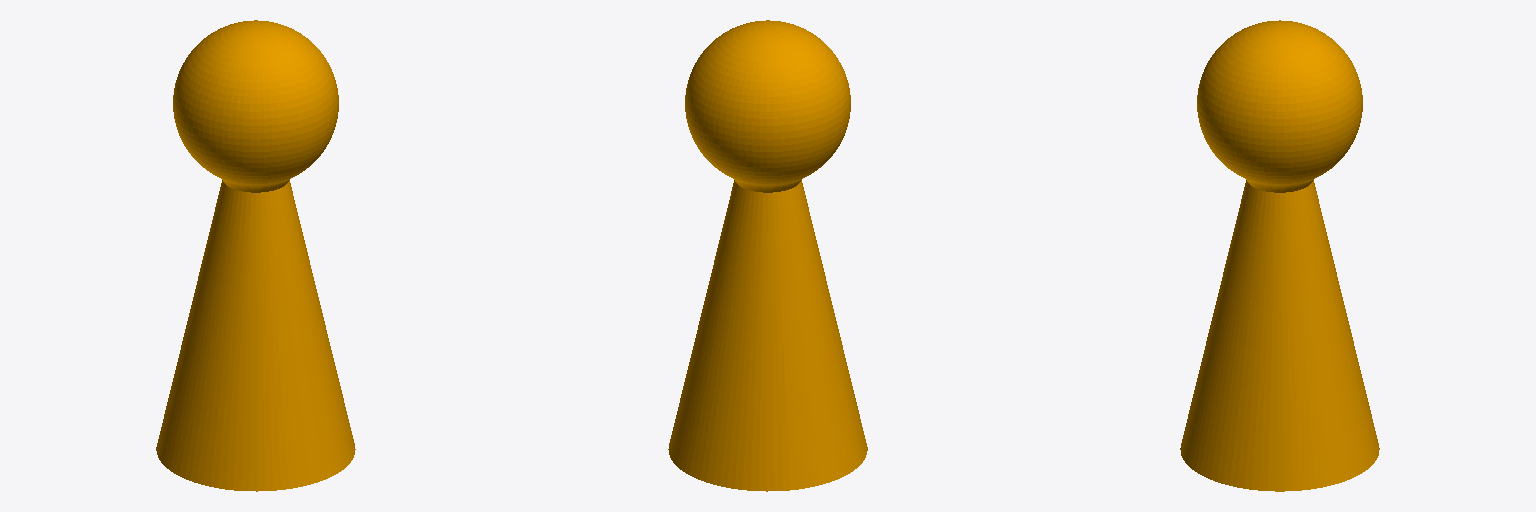
The robot description file, URDF, robot "benchmark_part_3":
<robot name="benchmark_part_3">
  <link name="base_link">
    <visual>
      <geometry>
        <mesh filename="benchmark_parts_stl/benchmark_part_3.stl" scale="0.001 0.001 0.001" />
      </geometry>
    <origin xyz="-0.3800000010599256 7.983359548731919e-10 -0.06038929814655157" rpy="0 0 0" /></visual>
    <collision>
      <geometry>
        <mesh filename="benchmark_parts_stl/benchmark_part_3_vhacd.obj" scale="0.01 0.01 0.01" />
      </geometry>
    <origin xyz="-0.3800000010599256 7.983359548731919e-10 -0.06038929814655157" rpy="0 0 0" /></collision>
    <inertial>
      <mass value="0.043" />
      <inertia ixx="0.001" ixy="0.0" ixz="0.0" iyy="0.001" iyz="0.0" izz="0.001" />
    </inertial>
  </link>
</robot>

--- Facts derived from the render (not from the file) ---
The picture shows the robot from 3 angles, left to right: view 1: azimuth 30°, elevation 25°; view 2: azimuth 150°, elevation 25°; view 3: azimuth 270°, elevation 25°; orthographic projection.
Model benchmark_part_3 with 1 links and 0 joints (none), rooted at base_link, posed all joints at 0.
Links seen in each view (by area): view 1: base_link; view 2: base_link; view 3: base_link.
Link boxes in pixels (x1,y1,x2,y2): base_link: (156,20,355,491); base_link: (668,20,867,491); base_link: (1180,20,1379,491).
Size in the robot's own frame: 0.06 by 0.06 by 0.14 metres.
1 mesh visuals loaded from 1 distinct referenced files (1 binary STL).